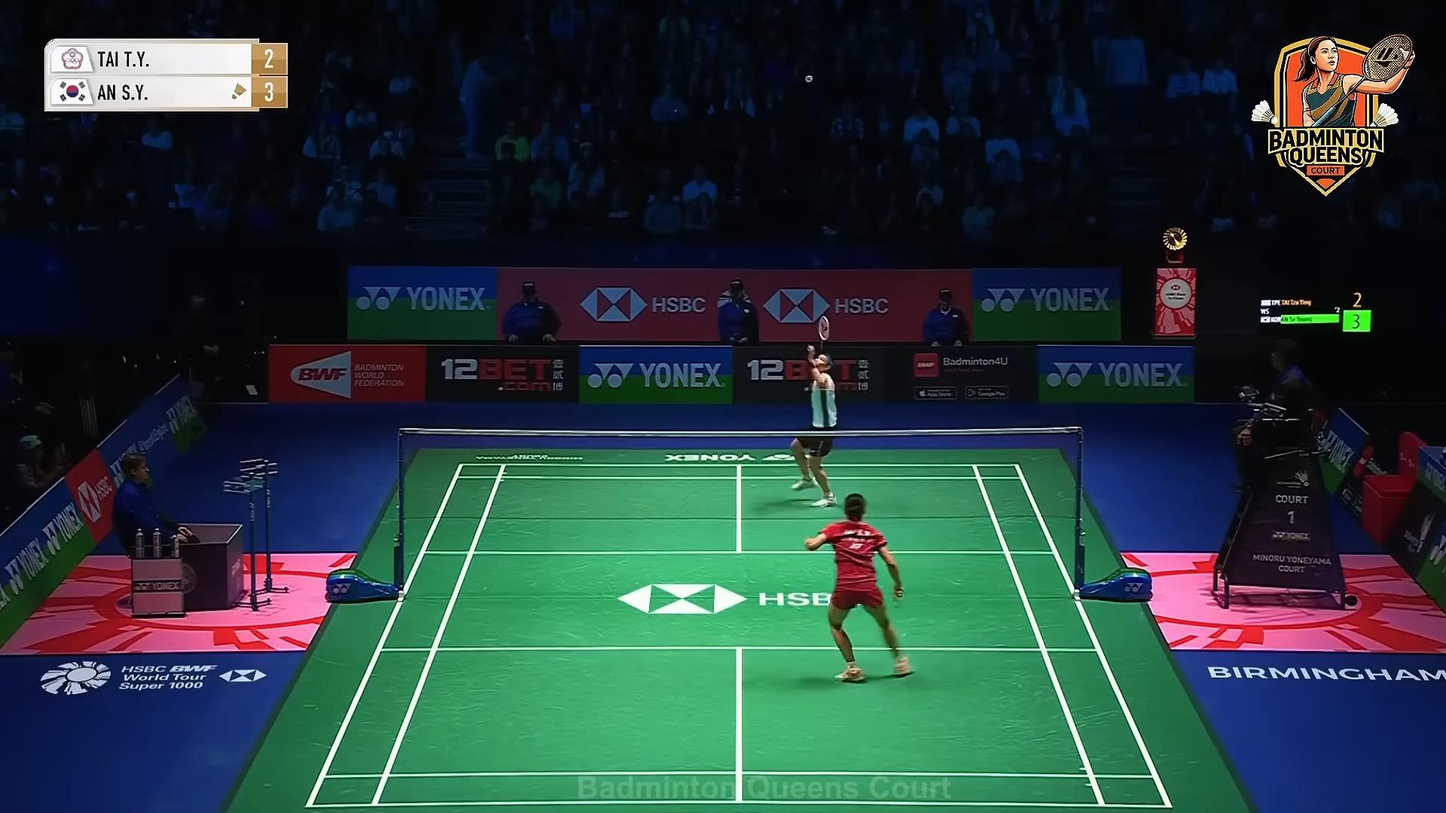shuttlecock: (804, 72, 815, 84)
